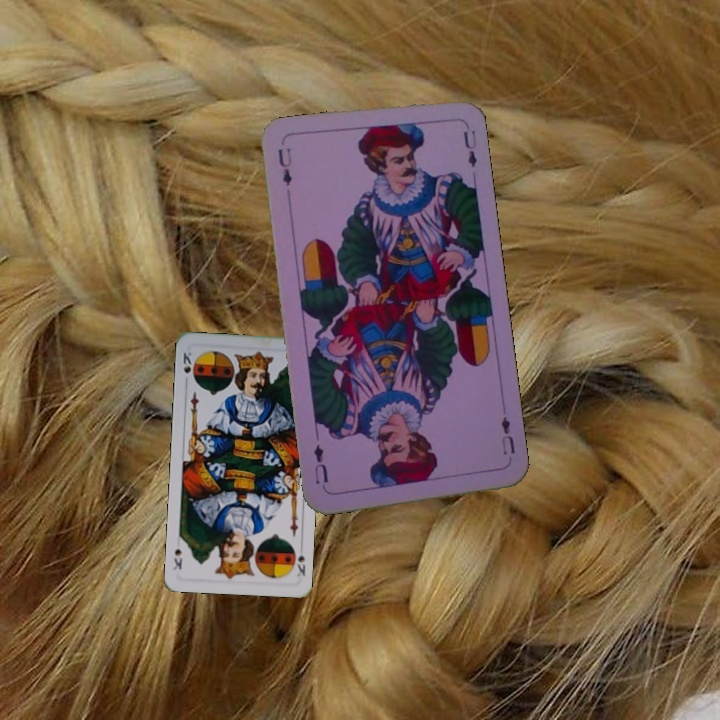EU: (273, 143, 295, 189), (497, 412, 518, 458)
SK: (288, 541, 308, 578), (179, 348, 194, 376)
